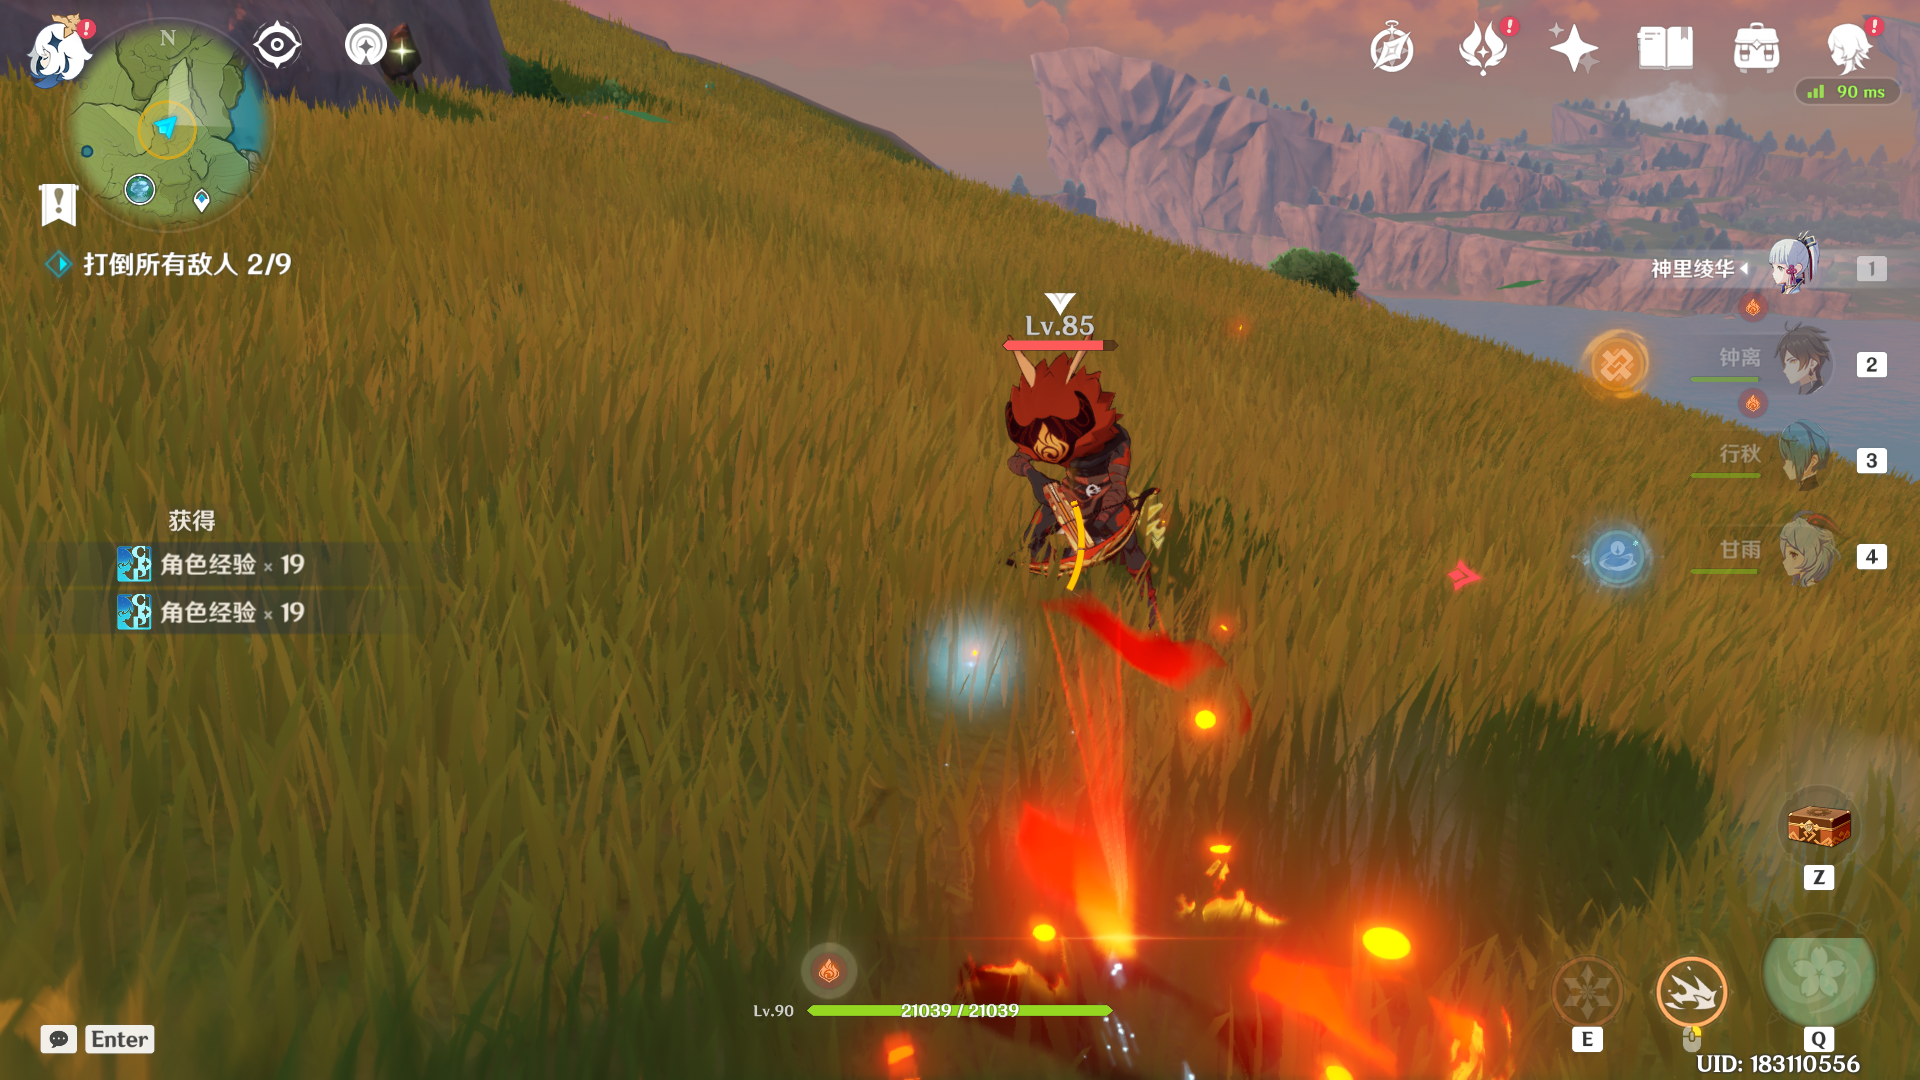hili: (913, 320, 1212, 653)
